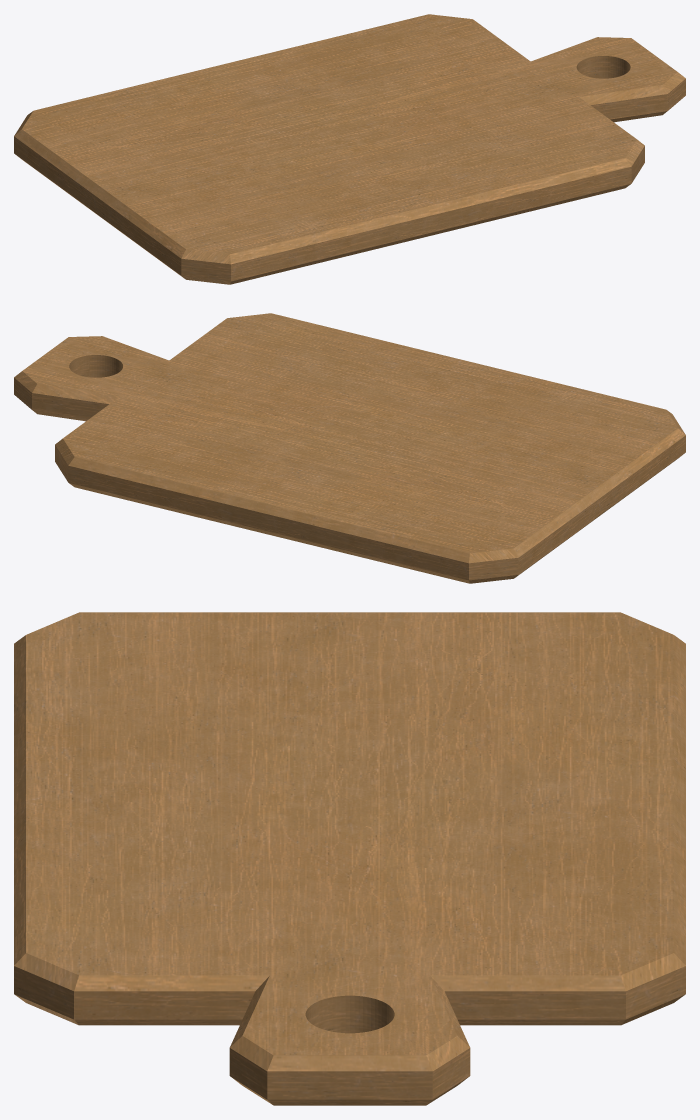
File: ChoppingBoard_Wood.glb
3 renders of one model, top to bottom at view 1: azimuth 30°, elevation 25°; view 2: azimuth 150°, elevation 25°; view 3: azimuth 270°, elevation 25°, orthographic. The views are drawn at different scales.
Parts seen in each view (by area): view 1: Plane; view 2: Plane; view 3: Plane.
Boxes of the visible parts, bbox=[...] form: Plane: bbox=[14, 14, 685, 284]; Plane: bbox=[14, 313, 685, 583]; Plane: bbox=[14, 612, 685, 1105].
Bounding box in the file's own units: 1.35 × 0.0696 × 0.8456.
1 material, 1 textured.
